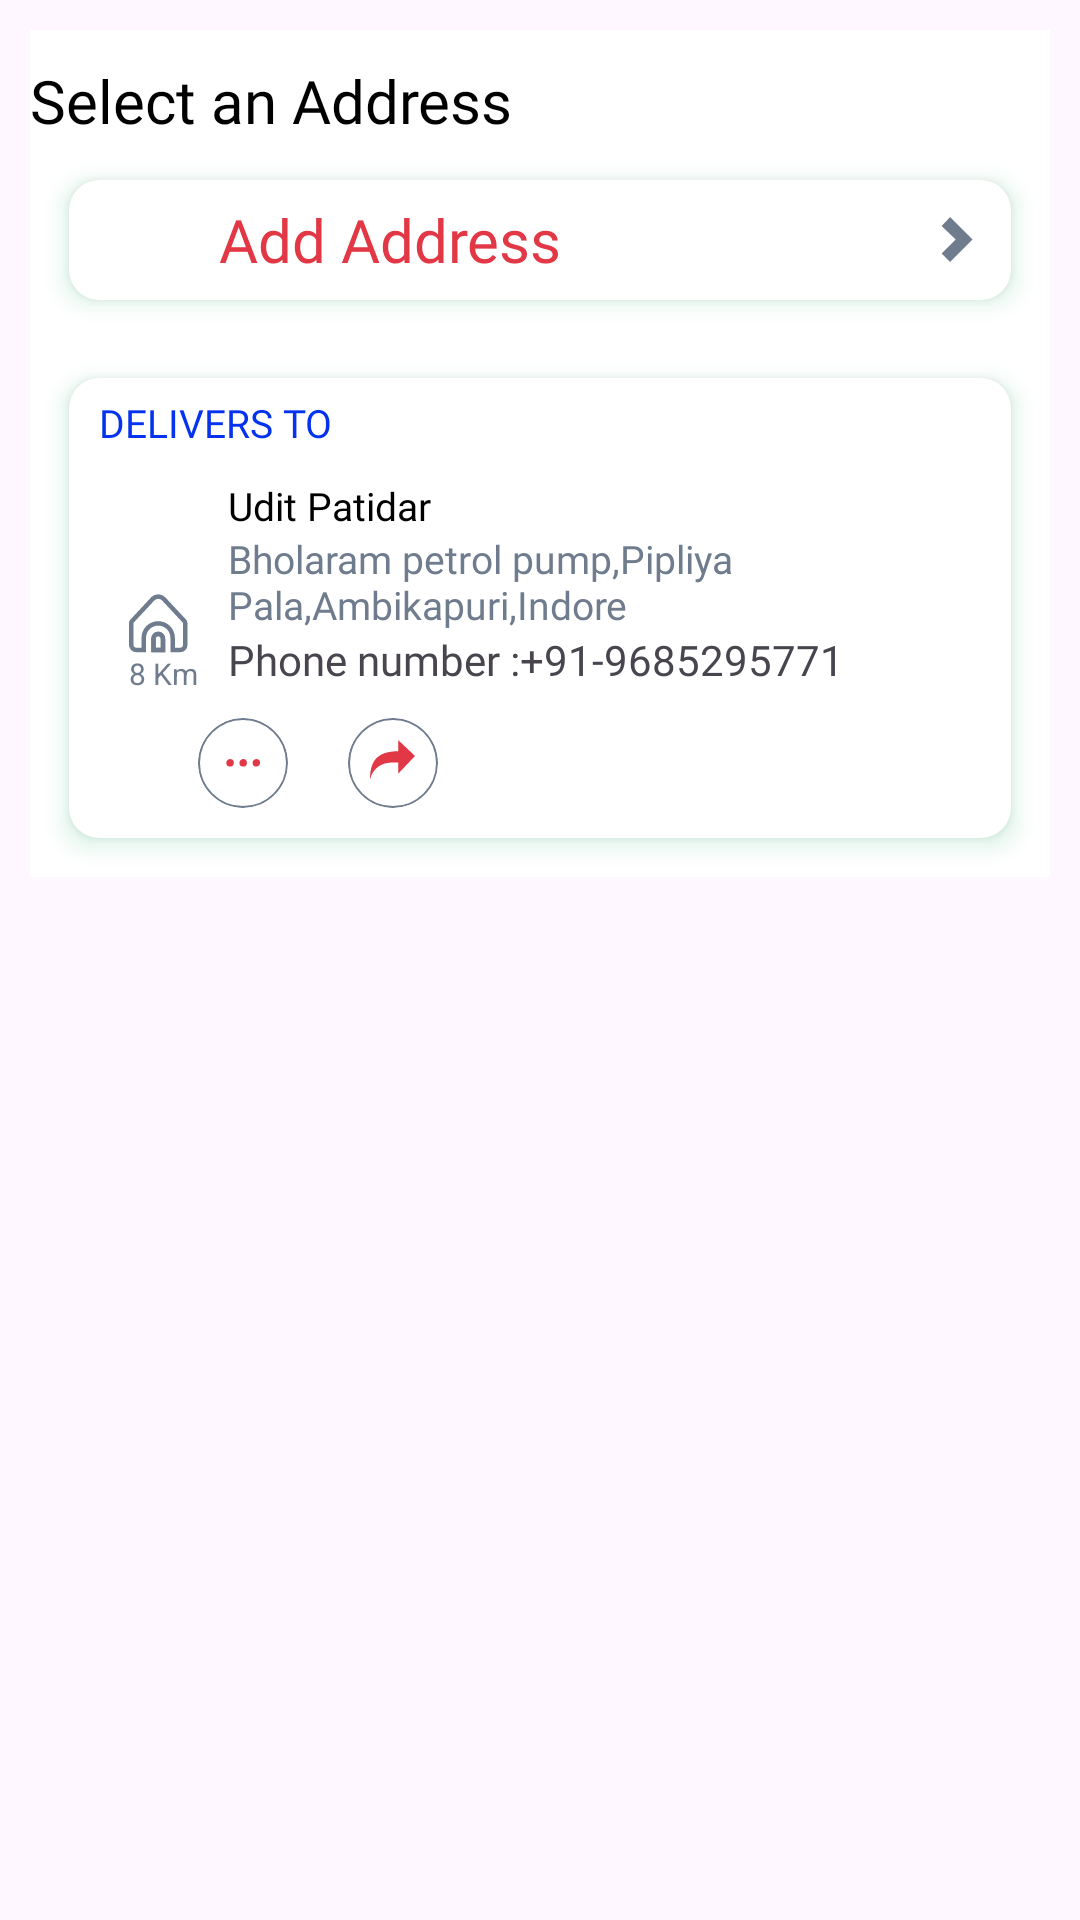

Where to tap for icons on this 1080×1920 app screen, as (x,y):
chevron: (957,239)
dots menu: (243,763)
home: (158,623)
share: (392,759)
